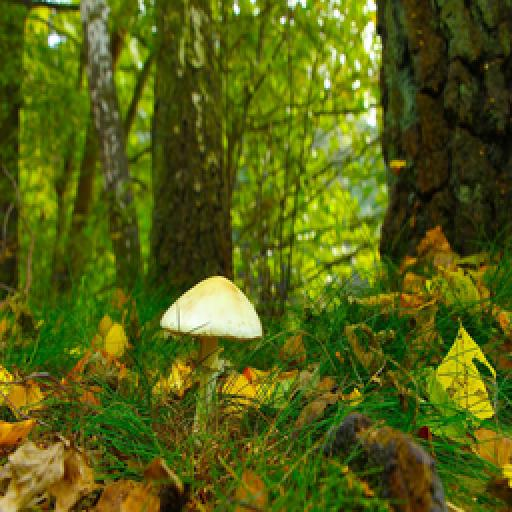mushrooms: (149, 276, 268, 450)
trees: (368, 0, 499, 297), (157, 4, 236, 303), (78, 4, 145, 298), (0, 0, 28, 312)
